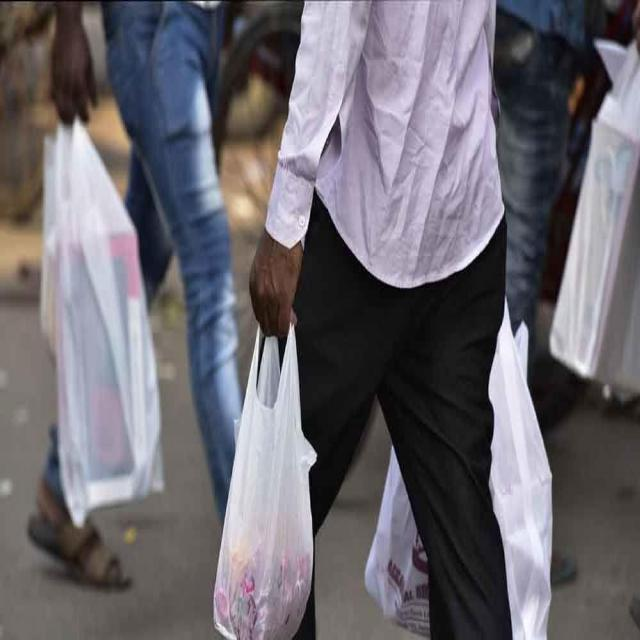plastic_bag: (38, 121, 168, 520), (565, 38, 640, 394), (224, 335, 311, 637), (505, 312, 561, 640), (377, 445, 430, 635)
